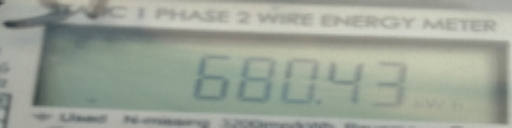0: (284, 56, 319, 105)
3: (371, 58, 412, 110)
4: (329, 56, 363, 110)
6: (194, 50, 235, 102)
8: (234, 55, 277, 105)
d: (315, 98, 325, 108)
